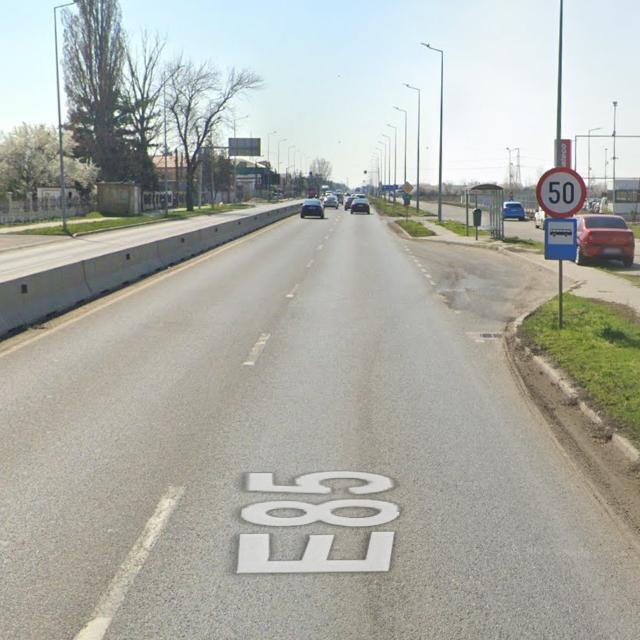forb_speed_over_50: (538, 168, 586, 221)
